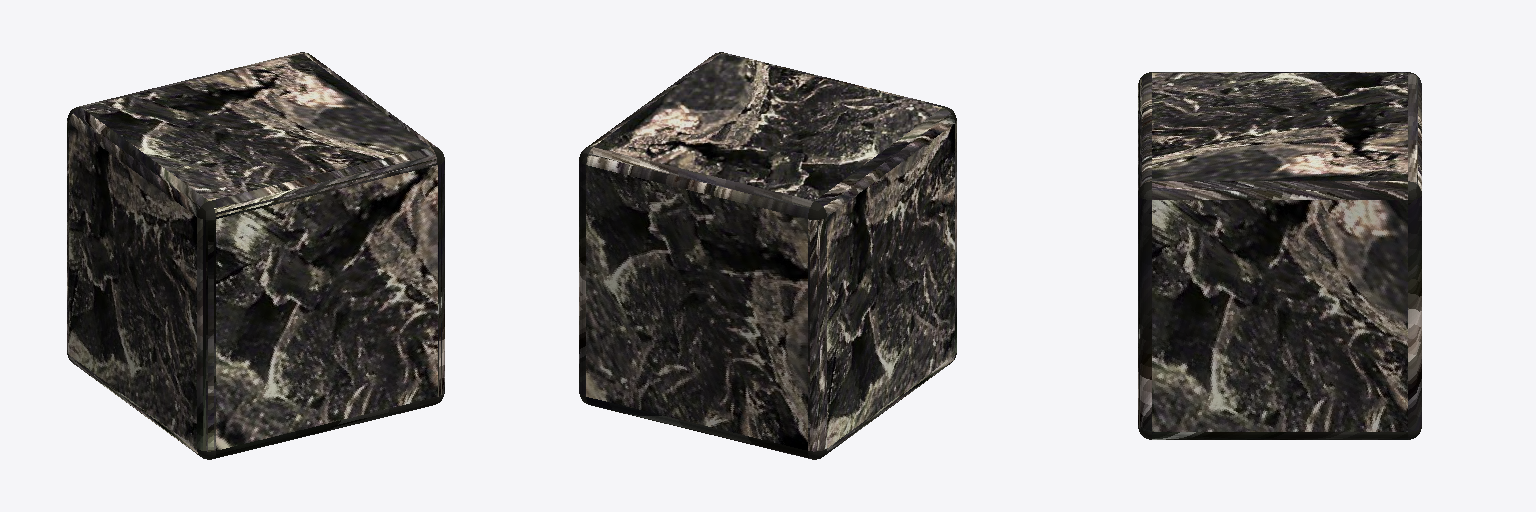
The picture shows the model from 3 angles: view 1: azimuth 30°, elevation 25°; view 2: azimuth 150°, elevation 25°; view 3: azimuth 270°, elevation 25°; orthographic projection.
Parts seen in each view (by area): view 1: Cube; view 2: Cube; view 3: Cube.
Boxes of the visible parts, x1,y1,x2,y2 form: Cube: [67, 52, 444, 459]; Cube: [579, 52, 956, 459]; Cube: [1138, 72, 1421, 439].
Size of the model in its own units: 2 by 2 by 2.
Materials: 1 (1 with a texture image).